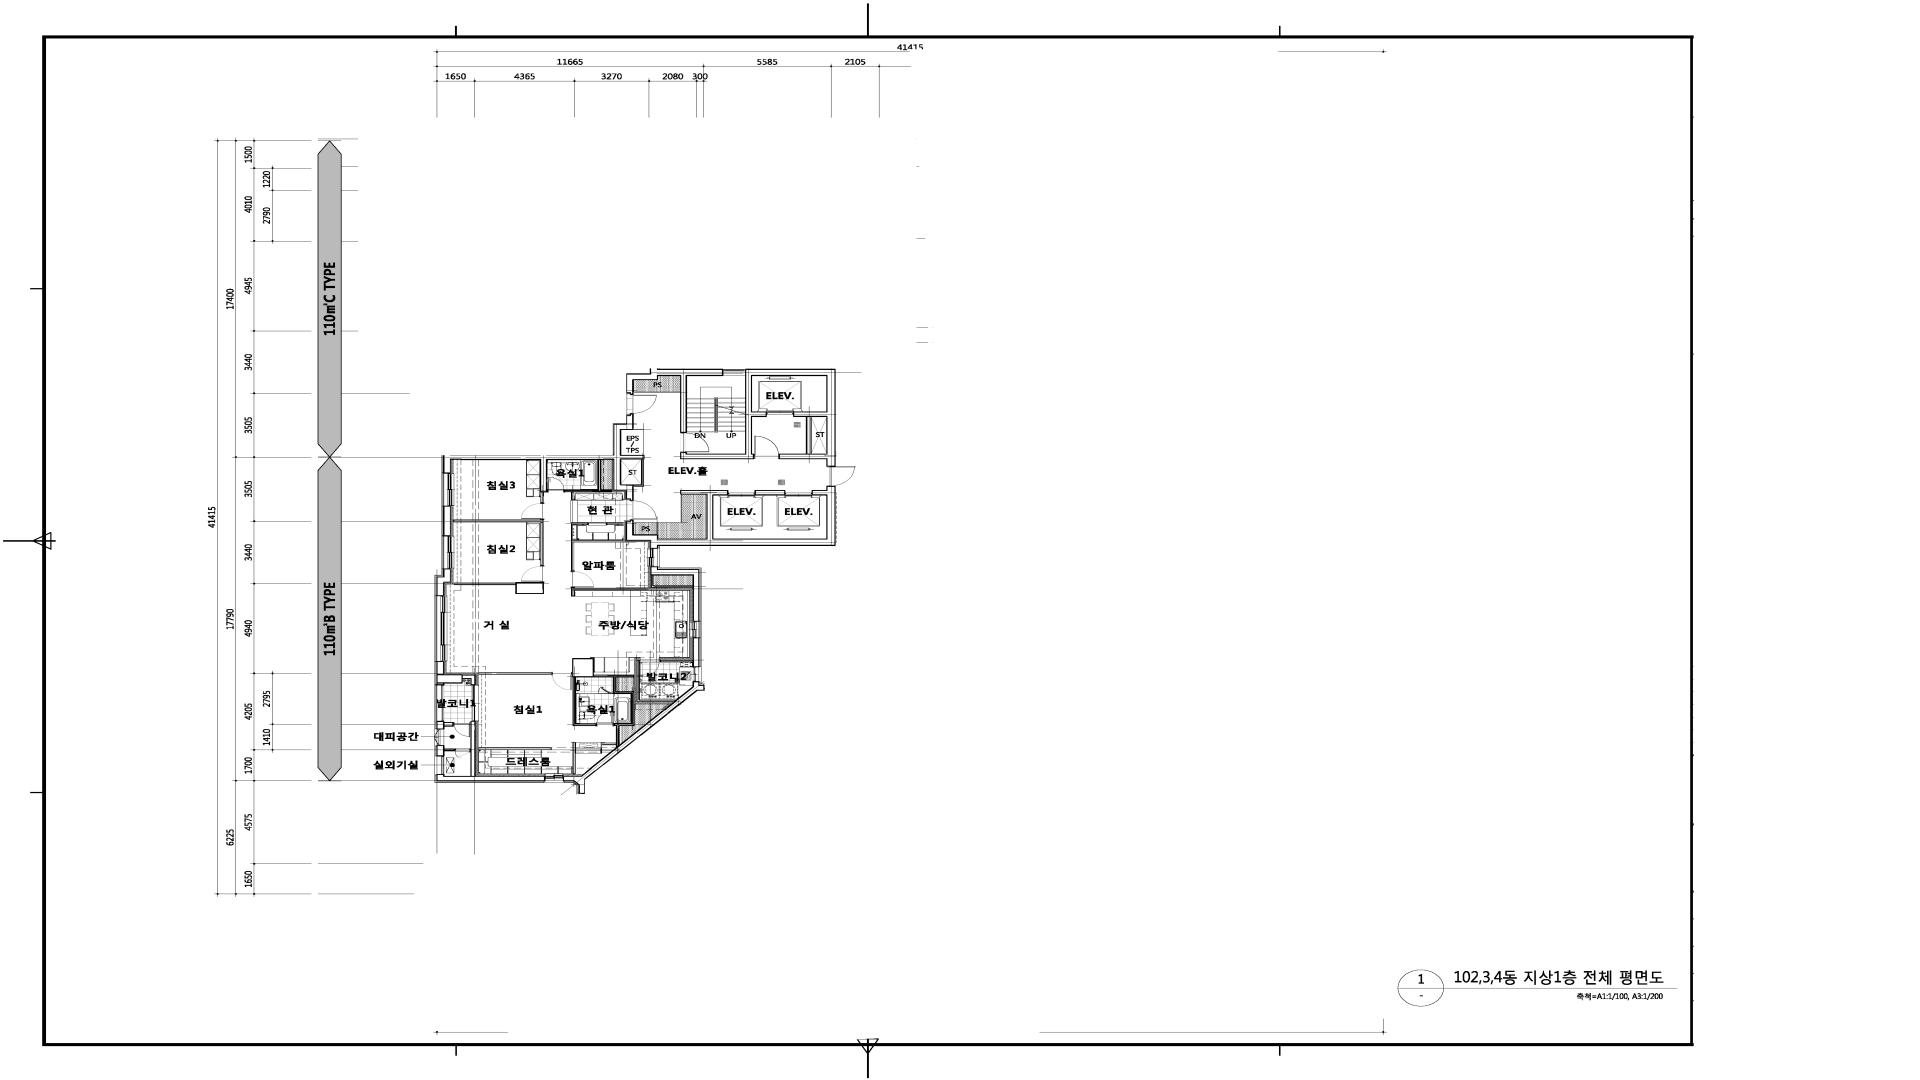door: (826, 466, 856, 486), (754, 436, 779, 459), (680, 433, 709, 452), (630, 395, 657, 414), (630, 501, 657, 520), (552, 672, 573, 690), (521, 566, 544, 582), (571, 571, 594, 587), (521, 503, 544, 519), (640, 660, 660, 677), (547, 477, 565, 492), (596, 711, 614, 726), (454, 722, 471, 737), (434, 729, 445, 745), (455, 749, 471, 757), (598, 687, 613, 694), (589, 522, 606, 525)
wall: (443, 414, 644, 501), (563, 681, 705, 794), (680, 369, 836, 466), (626, 486, 836, 549), (626, 369, 723, 433), (573, 658, 634, 748), (453, 519, 543, 566), (571, 520, 650, 571), (651, 566, 699, 621), (565, 460, 630, 500), (633, 495, 682, 535), (637, 660, 677, 702), (454, 582, 544, 594), (436, 774, 545, 781), (571, 587, 648, 596), (436, 661, 462, 684), (651, 575, 693, 588), (436, 569, 451, 596), (633, 459, 644, 487), (633, 429, 644, 455), (471, 721, 476, 776), (443, 506, 451, 536), (806, 417, 812, 454), (478, 747, 552, 750), (478, 672, 552, 675), (693, 638, 699, 667), (754, 490, 785, 495), (462, 675, 475, 685), (573, 743, 576, 774), (436, 745, 444, 756), (436, 721, 445, 729), (660, 660, 693, 662), (444, 722, 454, 727), (540, 492, 544, 503), (444, 748, 455, 751), (602, 750, 614, 752), (633, 392, 680, 392)
window: (436, 596, 447, 661), (443, 473, 454, 506), (443, 536, 454, 569), (436, 684, 445, 721), (471, 685, 479, 721), (647, 549, 658, 567), (689, 621, 699, 638), (436, 756, 445, 774), (723, 369, 745, 376), (545, 773, 563, 781), (693, 667, 699, 681)
